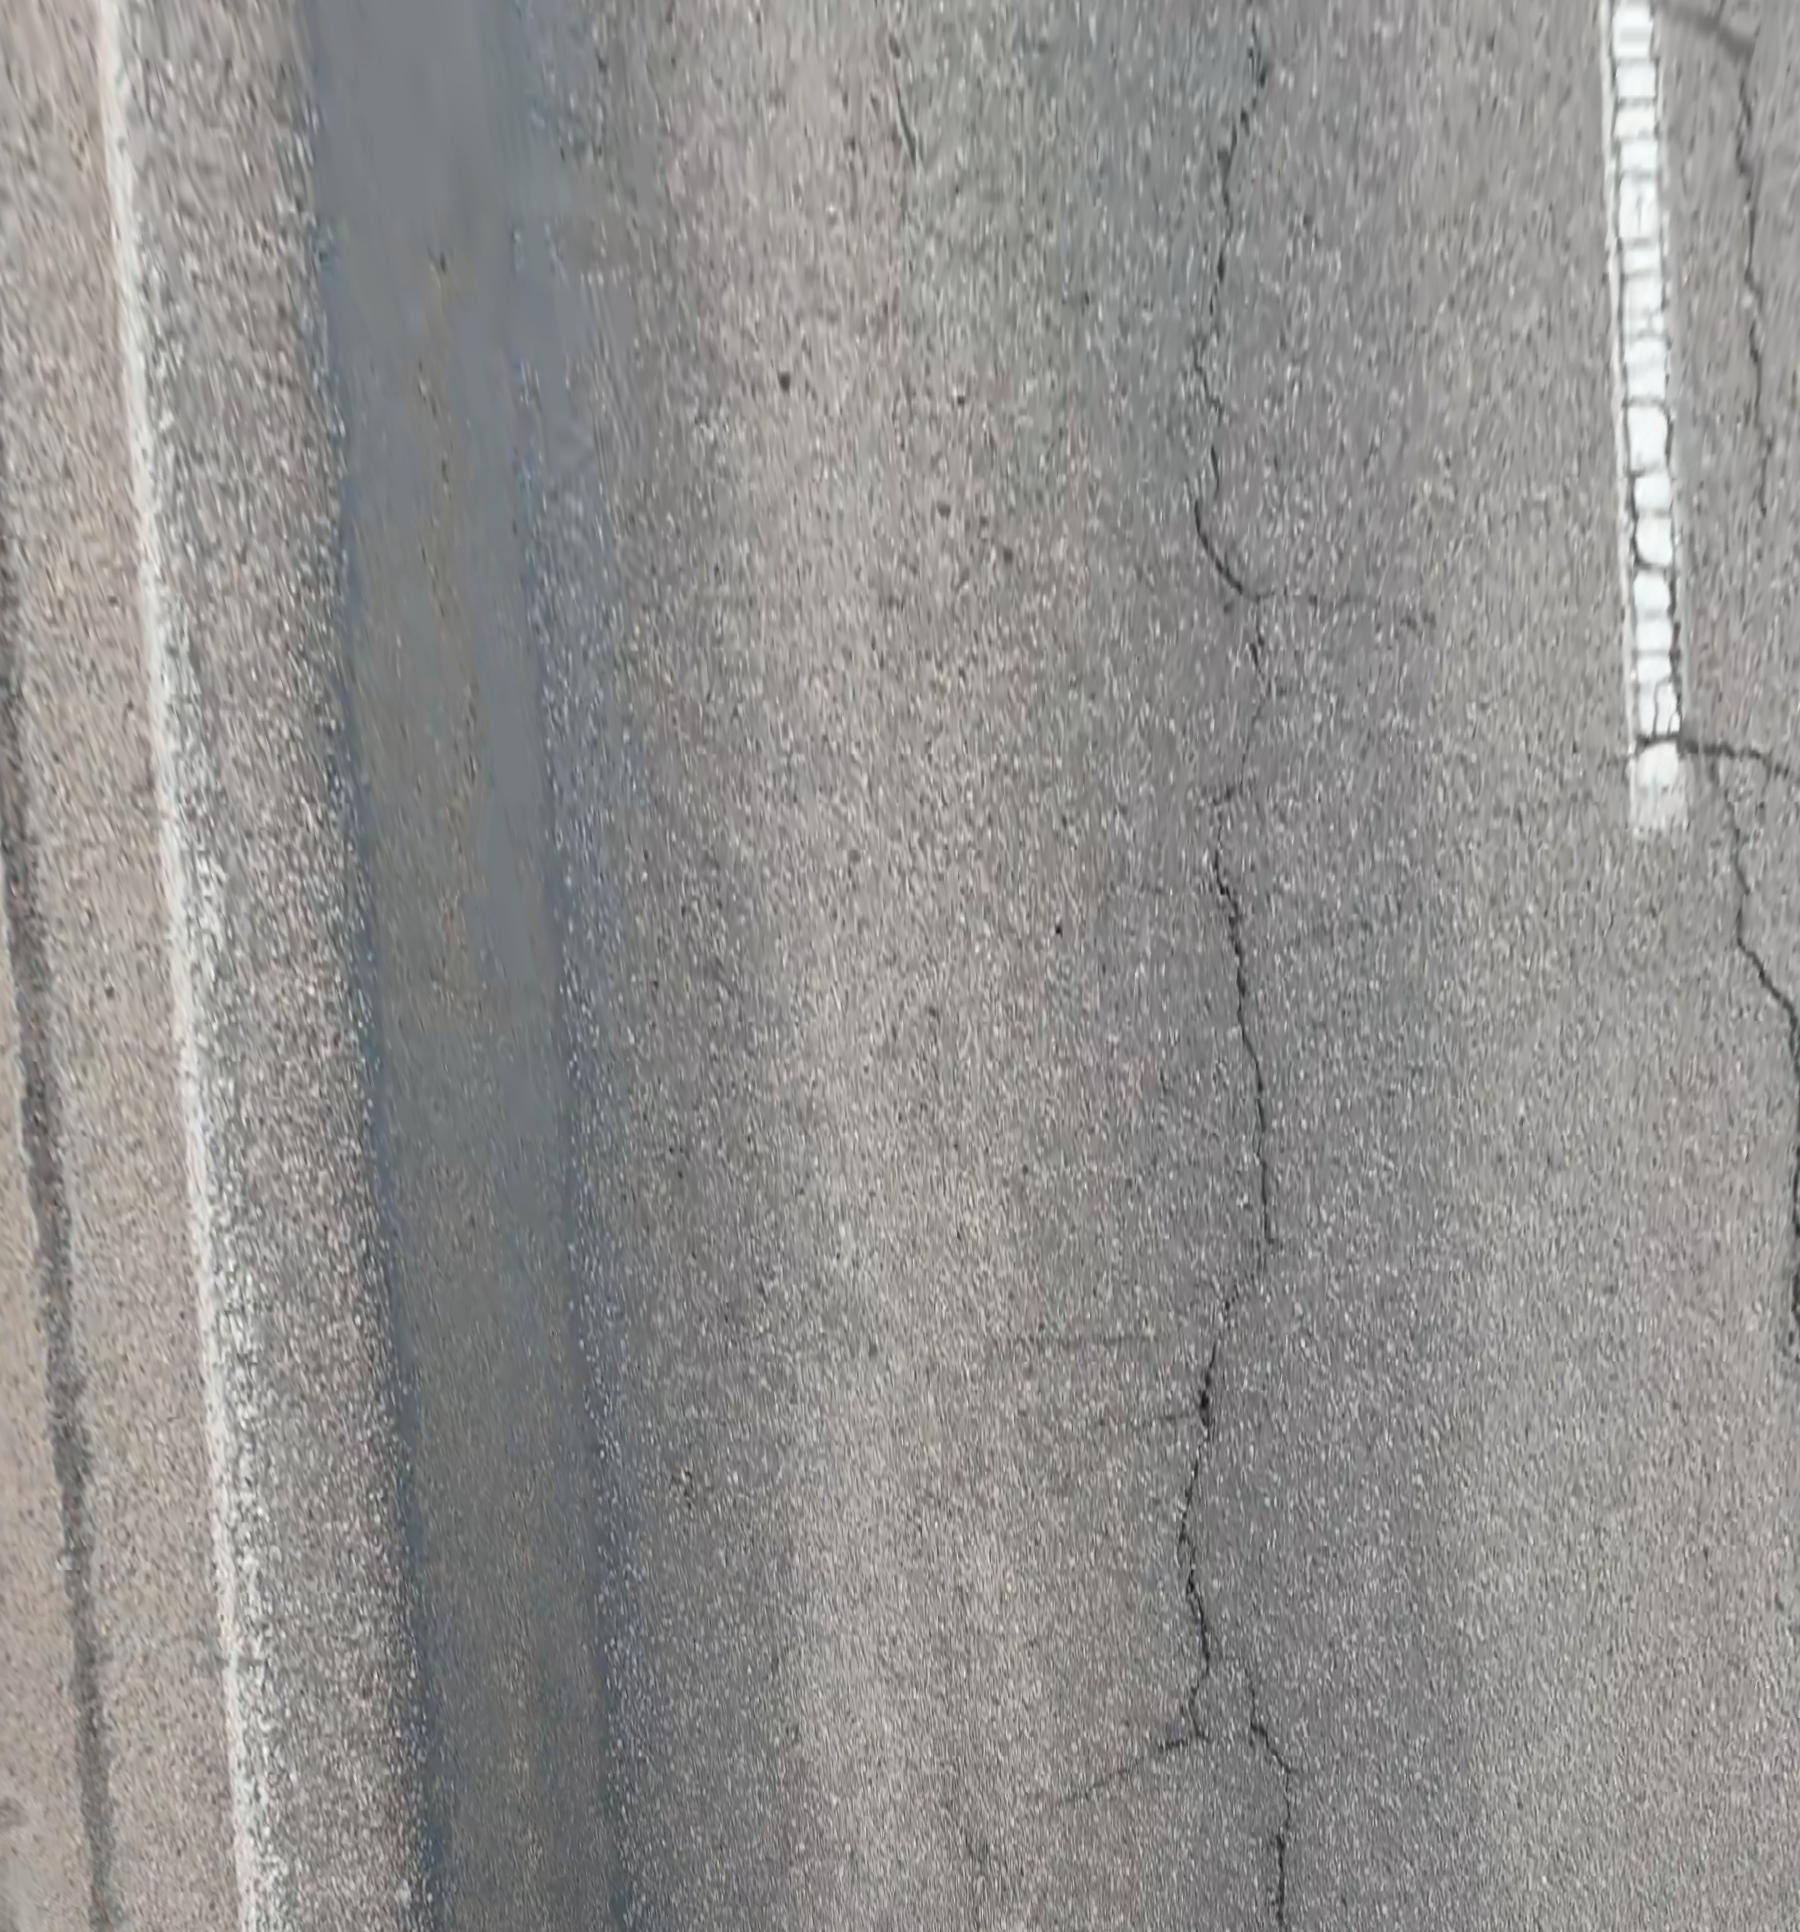pothole_patch_good: (303, 0, 619, 1932)
